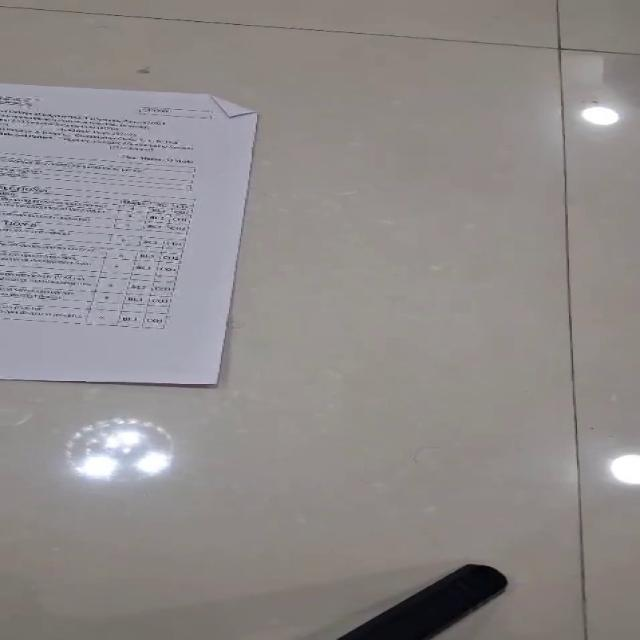paper: (0, 82, 258, 385)
